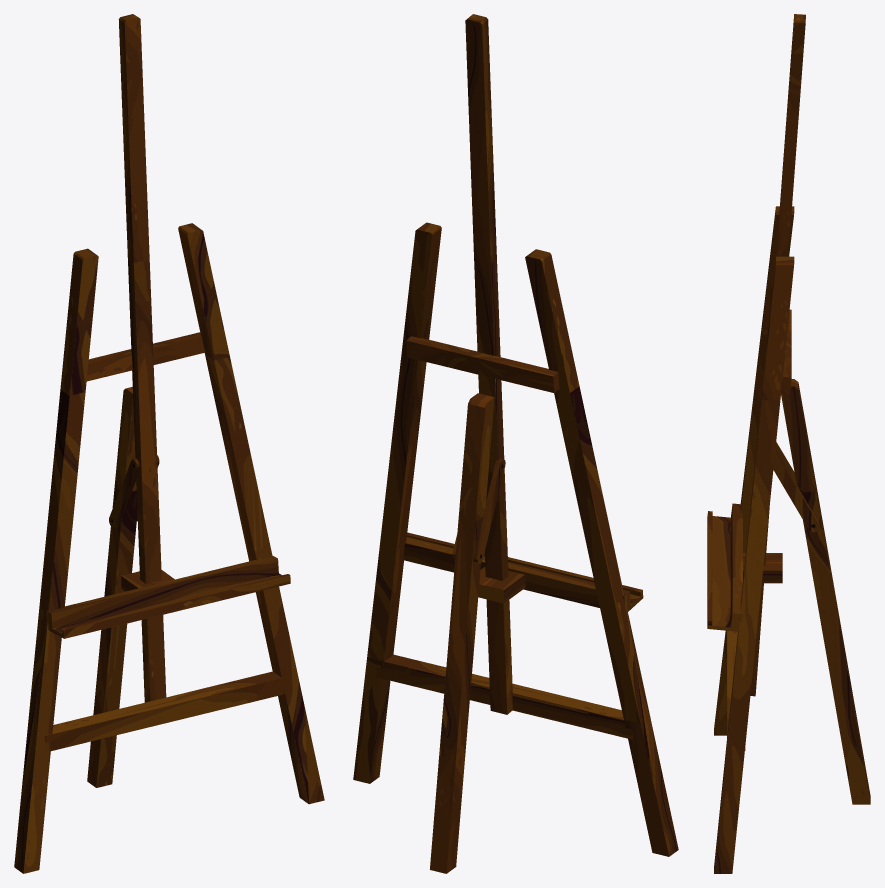
The model's file is painting-easel.glb.
The picture shows the model from 3 angles, left to right: view 1: azimuth 30°, elevation 25°; view 2: azimuth 150°, elevation 25°; view 3: azimuth 270°, elevation 25°; orthographic projection. The views are drawn at different scales.
Parts seen in each view (by area): view 1: painting_easel; view 2: painting_easel; view 3: painting_easel.
Part boxes in pixels (box(x1,y1,x2,y2)): painting_easel: box(14, 14, 324, 873); painting_easel: box(353, 14, 678, 873); painting_easel: box(707, 14, 870, 873).
Bounding box in the file's own units: 2.5 × 6.24 × 1.18.
1 material, 1 textured.
